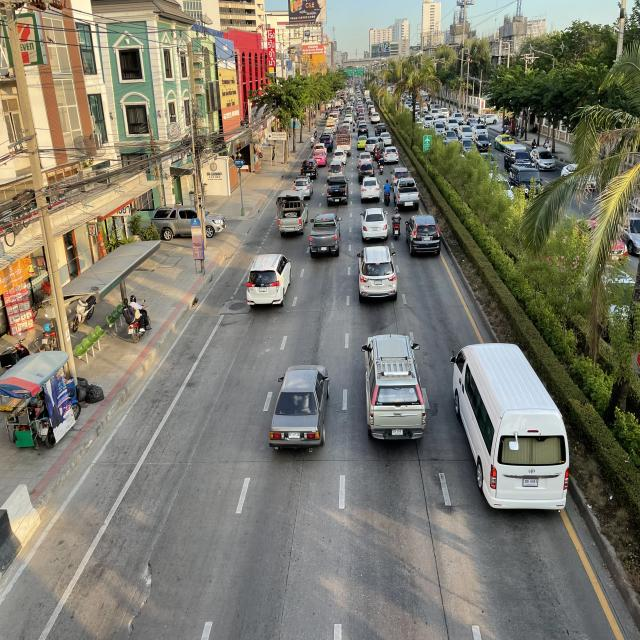bike: (390, 204, 402, 242)
truck: (273, 188, 312, 238)
